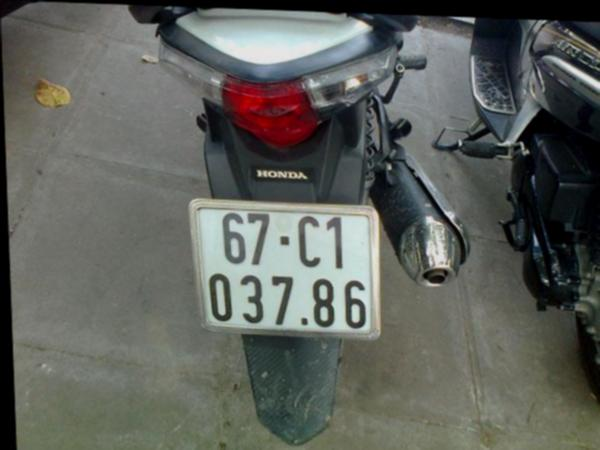License_Plate: (194, 203, 383, 340)
